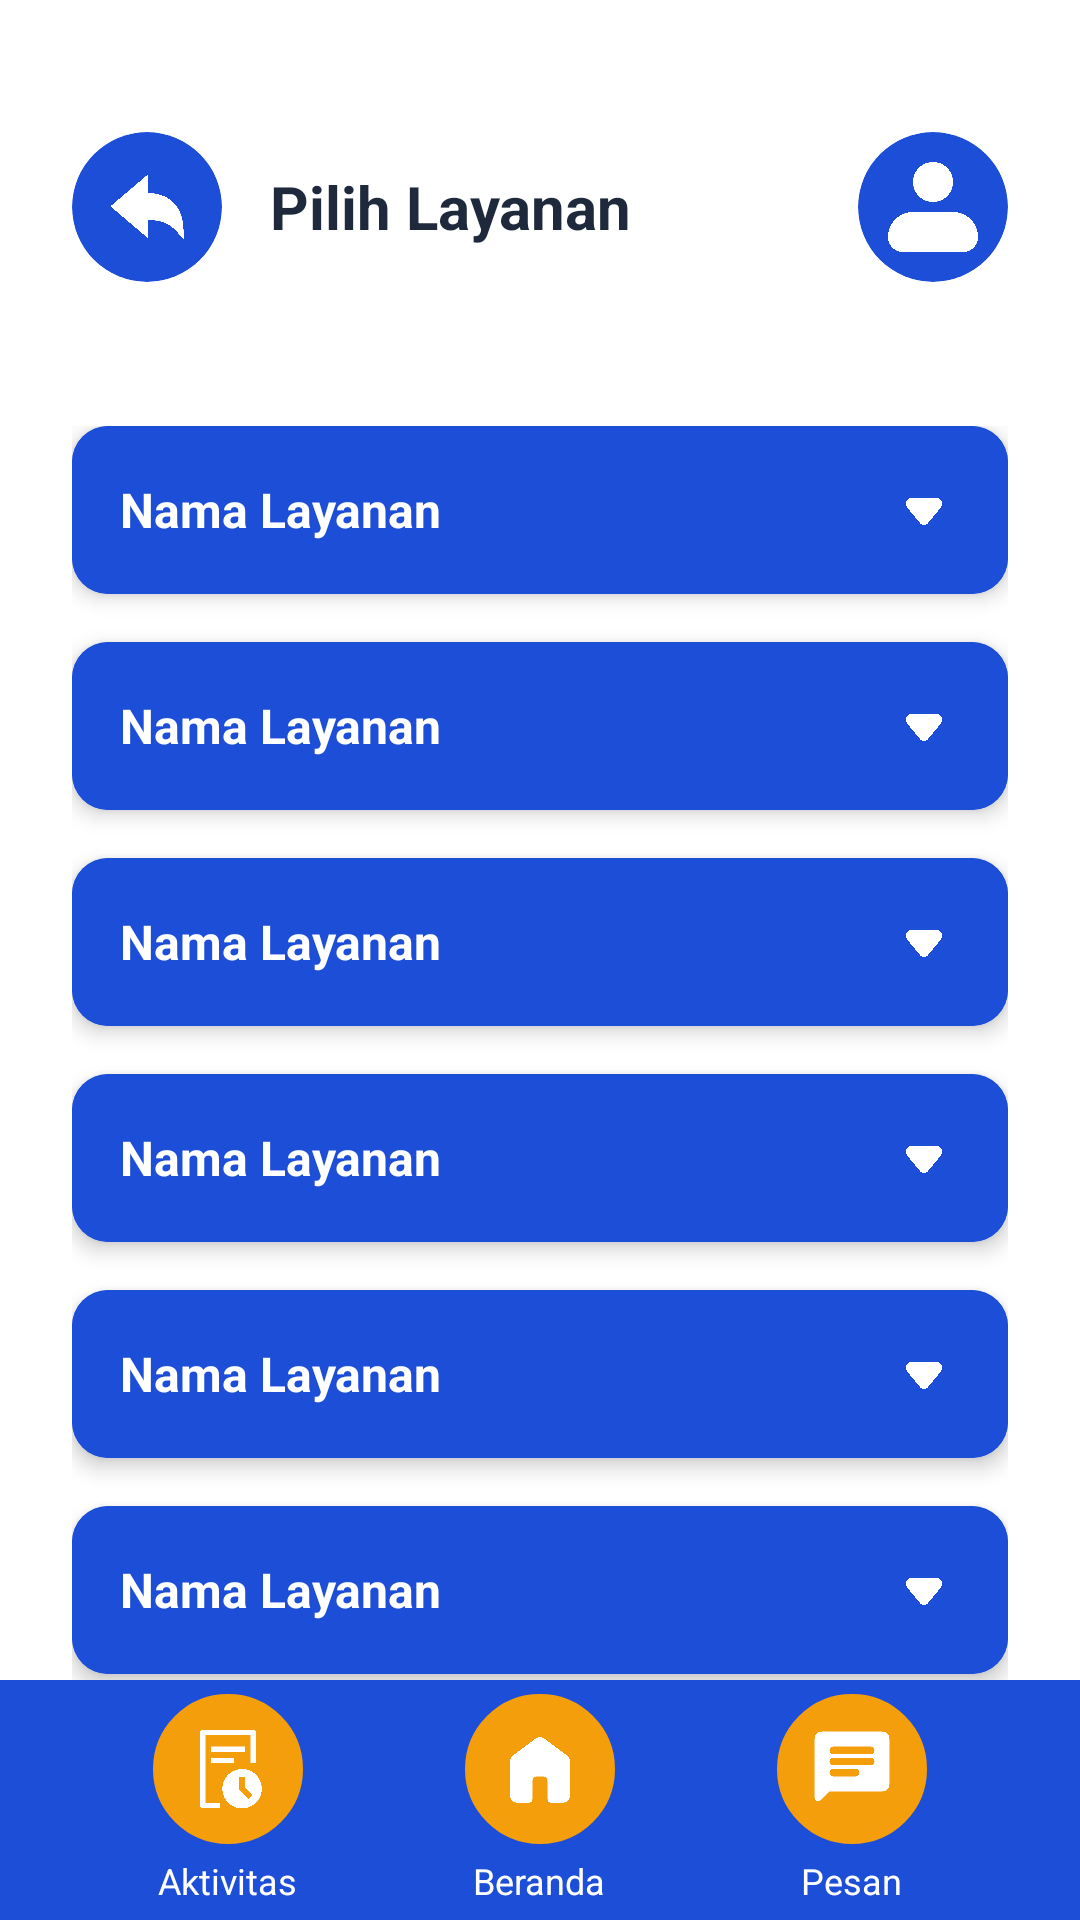

Icon bounding boxes for this 1080w x 1920h phone screenshot, format [x1,y1,x2,y2]:
arrow down: [906,498,942,525], [906,714,942,741], [906,930,942,957], [906,1146,942,1173], [906,1362,942,1389], [906,1578,942,1605]
back: [111,175,184,239]
